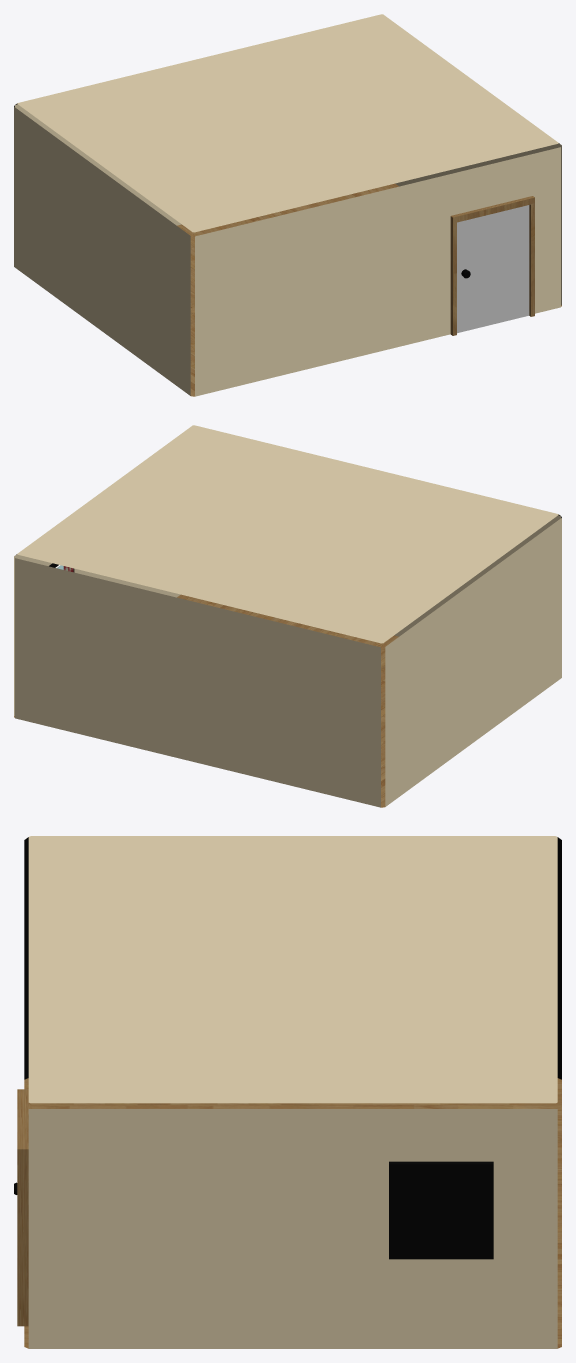
Rendered from Room_6.fbx.
The picture shows the model from 3 angles, top to bottom: view 1: azimuth 30°, elevation 25°; view 2: azimuth 150°, elevation 25°; view 3: azimuth 270°, elevation 25°; orthographic projection. The views are drawn at different scales.
Parts seen in each view (by area): view 1: Room, Roof, Door; view 2: Room, Roof; view 3: Roof, Room, Window.
Part boxes in pixels (bbox=[...]): Room: bbox=[14, 103, 561, 396]; Roof: bbox=[17, 14, 558, 232]; Door: bbox=[457, 205, 529, 333]; Room: bbox=[14, 514, 561, 807]; Roof: bbox=[17, 425, 558, 643]; Roof: bbox=[28, 836, 557, 1103]; Room: bbox=[17, 837, 561, 1348]; Window: bbox=[389, 1161, 493, 1259].
Bounding box in the file's own units: 3131 × 1300 × 2650.
